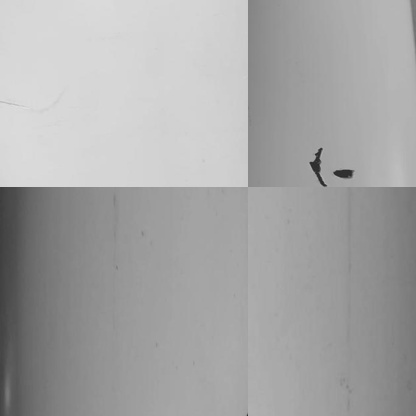kongdong: (307, 143, 325, 185), (331, 167, 360, 180)
